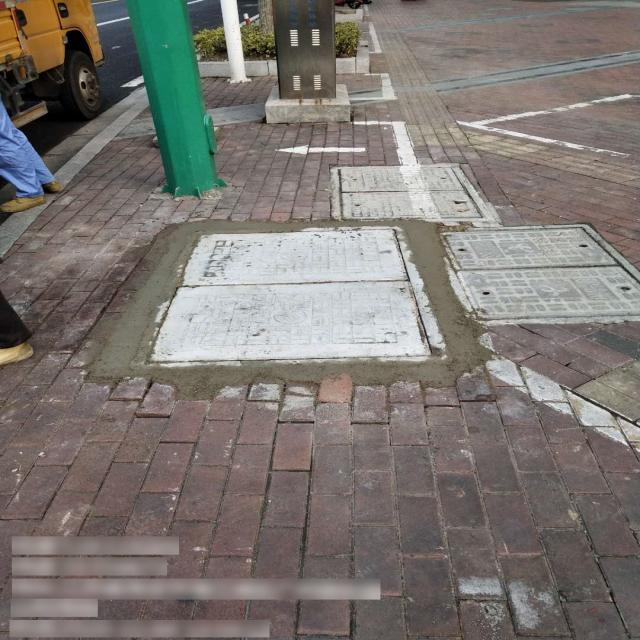Good: (130, 225, 450, 367), (432, 222, 639, 326), (328, 162, 497, 225)
